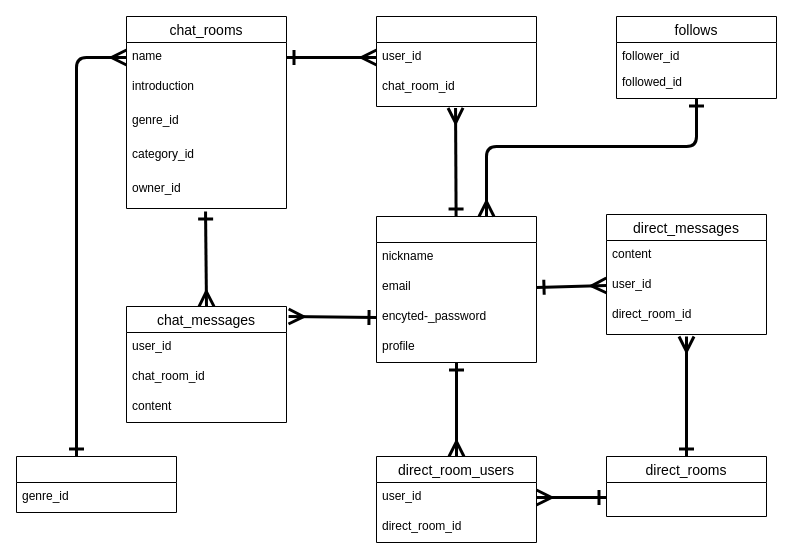
Image size: 793x559. Some labels were removed from this diagram. The shapes that lost their labels are listed below. From the top down, each one's box as (x1, y1, x2, y2) in pixels, then its label:
(376, 16, 536, 106): chat_room_users
(376, 216, 536, 362): users
(16, 456, 176, 512): categories
